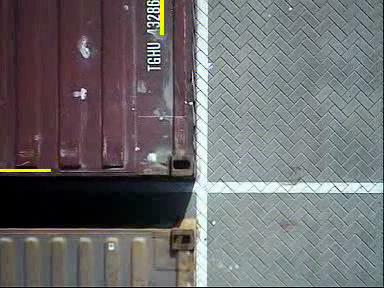groundmarker_2: (194, 154, 248, 229)
